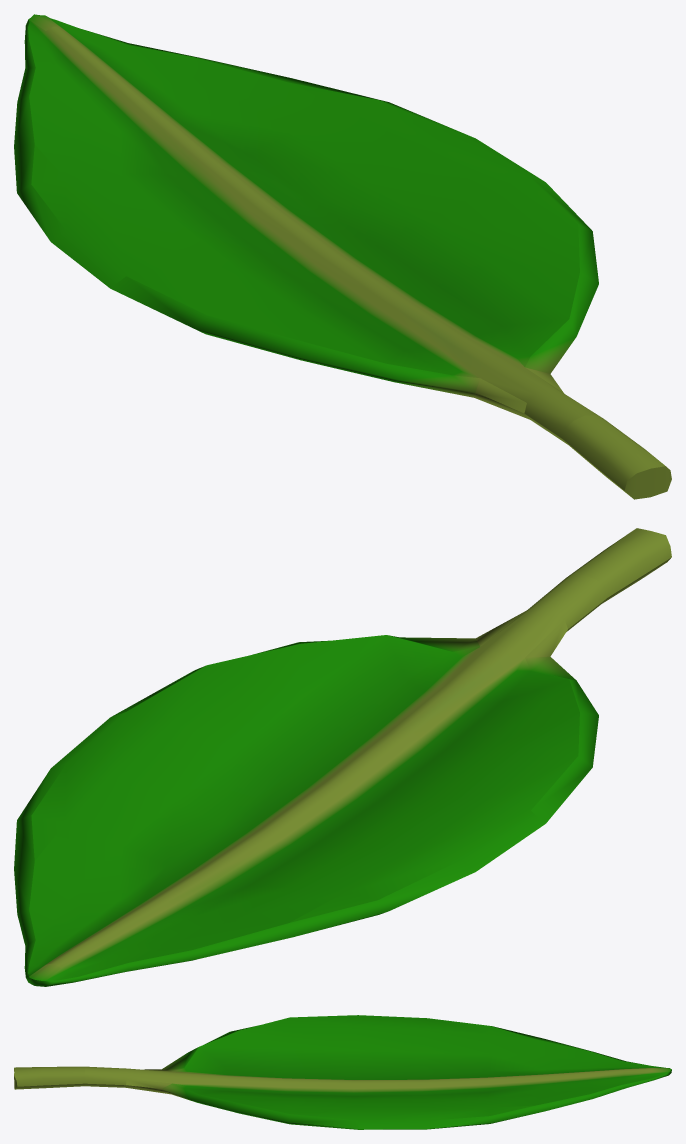
File: Leaf1.fbx
3 views of the same model, one above another, from view 1: azimuth 30°, elevation 25°; view 2: azimuth 150°, elevation 25°; view 3: azimuth 270°, elevation 25° (orthographic). The views are drawn at different scales.
Visible parts, largest first — view 1: Leaf1; view 2: Leaf1; view 3: Leaf1.
Boxes of the visible parts, x1,y1,x2,y2 form: Leaf1: [14, 14, 671, 499]; Leaf1: [14, 528, 671, 986]; Leaf1: [14, 1015, 671, 1129].
Bounding box in the file's own units: 543 × 78.06 × 1332.
